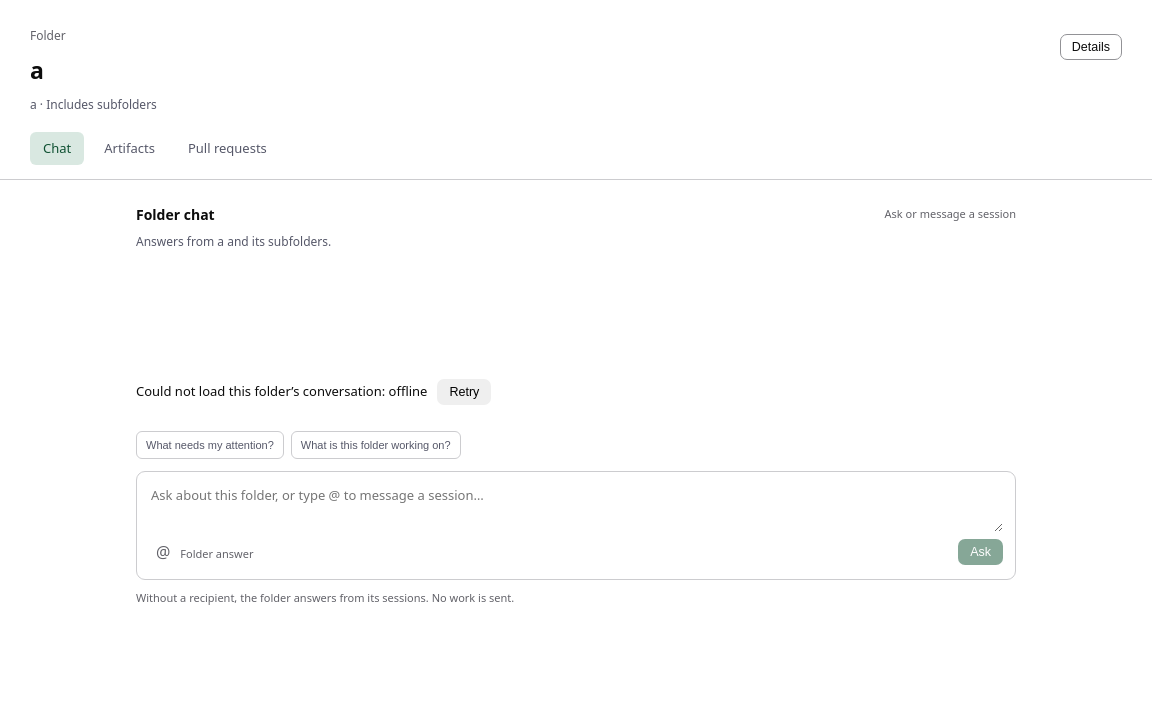
Scenario: preserves a failed question and lets history failures retry
Click the button "Retry" at coordinates (464, 392), box left=438, top=379, right=491, bottom=405
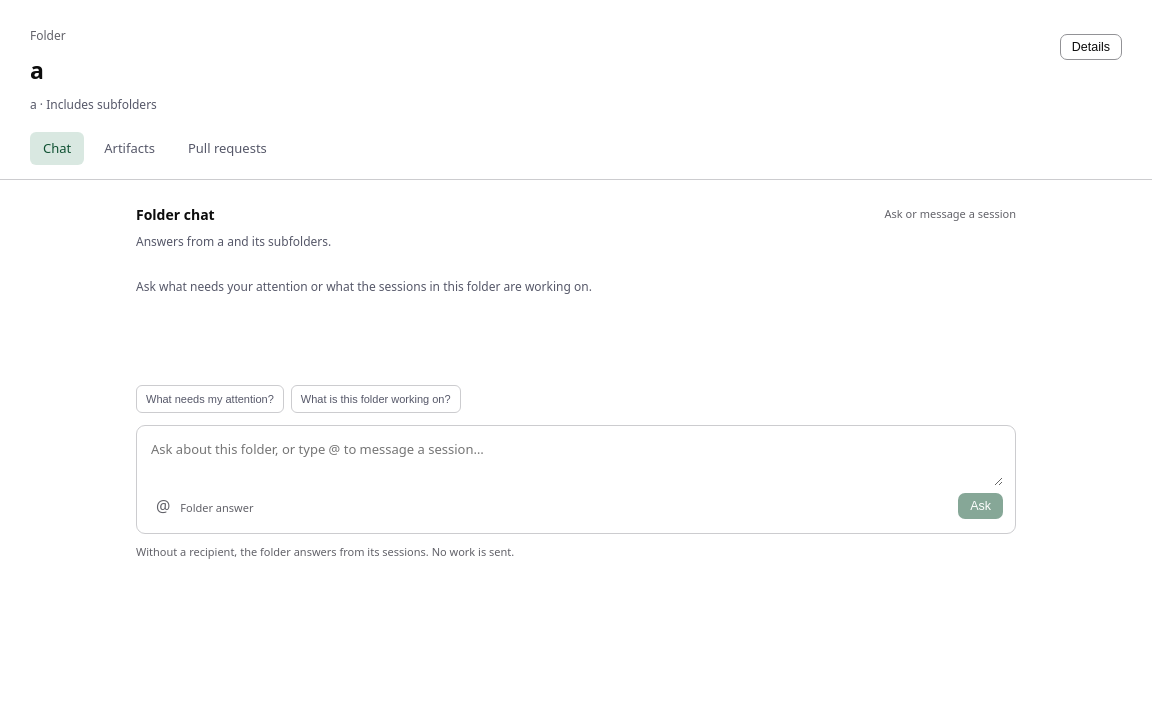
Type "Keep my question" into the text box at coordinates (576, 462), box left=149, top=438, right=1003, bottom=486
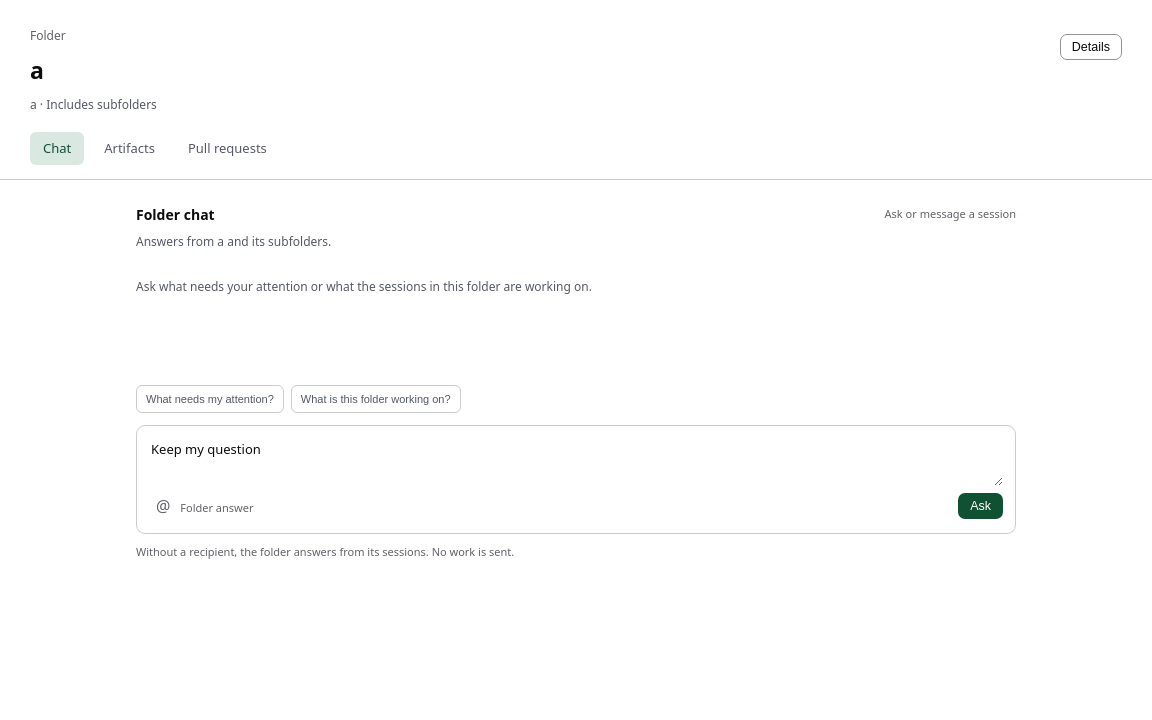
Click the button "Ask" at coordinates (981, 506), box left=958, top=493, right=1003, bottom=519
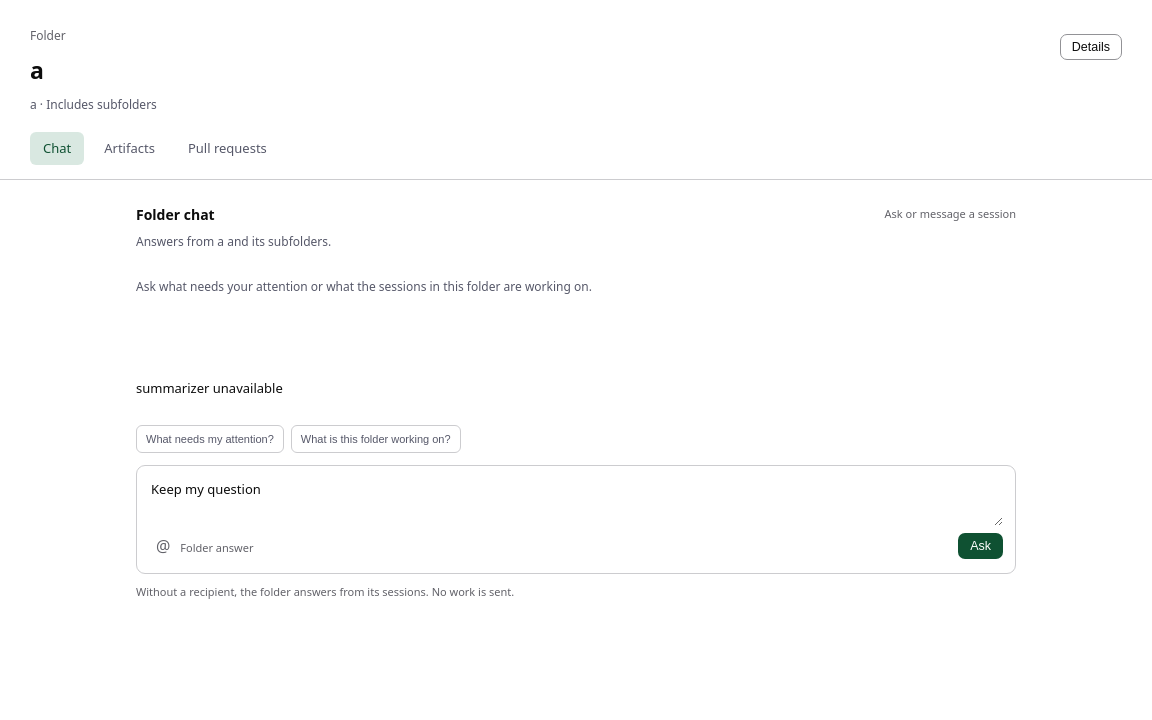
Now the message reads "summarizer unavailable", box left=136, top=379, right=283, bottom=397
